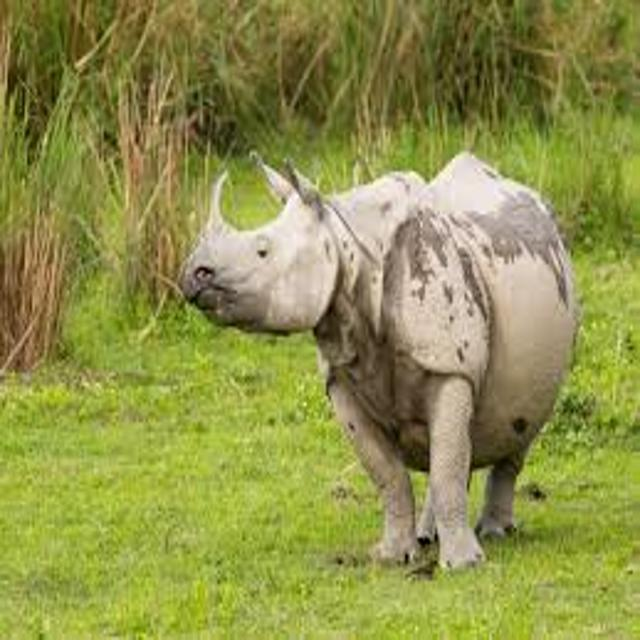rhino: (150, 94, 603, 591)
